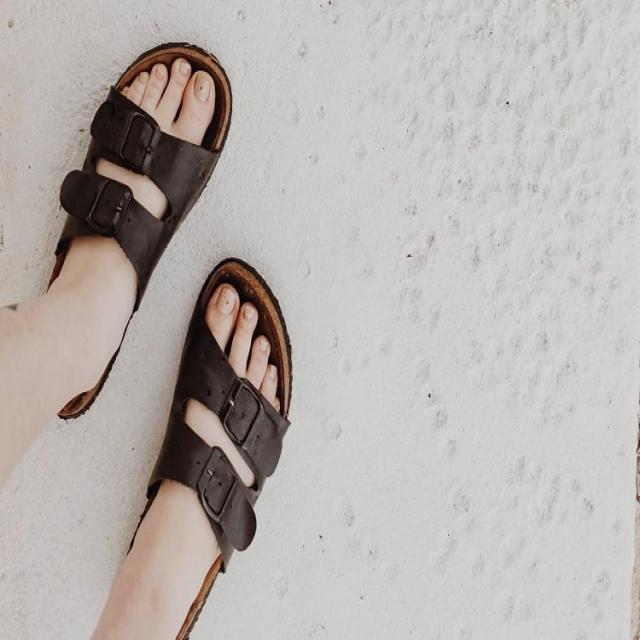Sandals: (29, 30, 300, 640)
